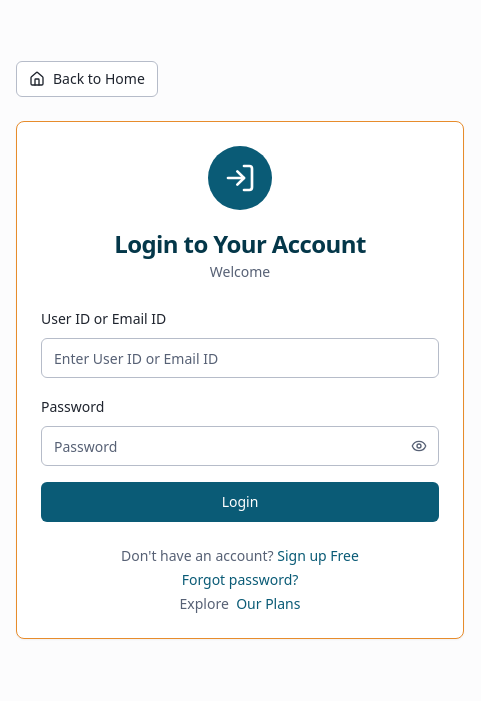
Test: Login — locked account (HTTP 429) › shows the lock with minutes rounded UP (never claims a shorter wait than real)
Type "agent@example.com" into the field with placeholder "Enter User ID or Email ID" at (240, 358), box [41, 338, 439, 378]
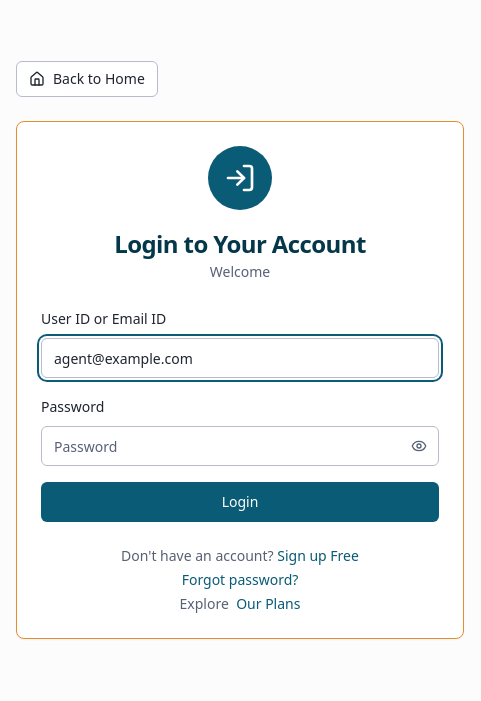
Type "whatever1" into the password field with placeholder "Password" at (240, 446), box [41, 426, 439, 466]
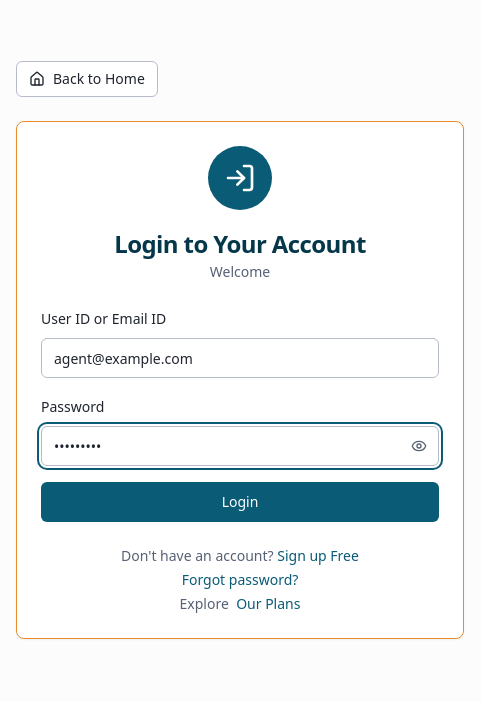
Click the button "Login" at (240, 502), box [41, 482, 439, 522]
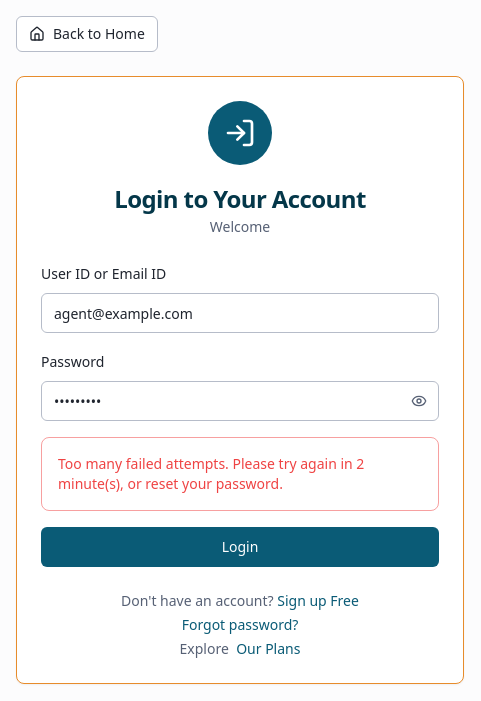
Expected: the text "try again in 2 minute(s), or reset your password" is shown, [58, 454, 364, 493]
